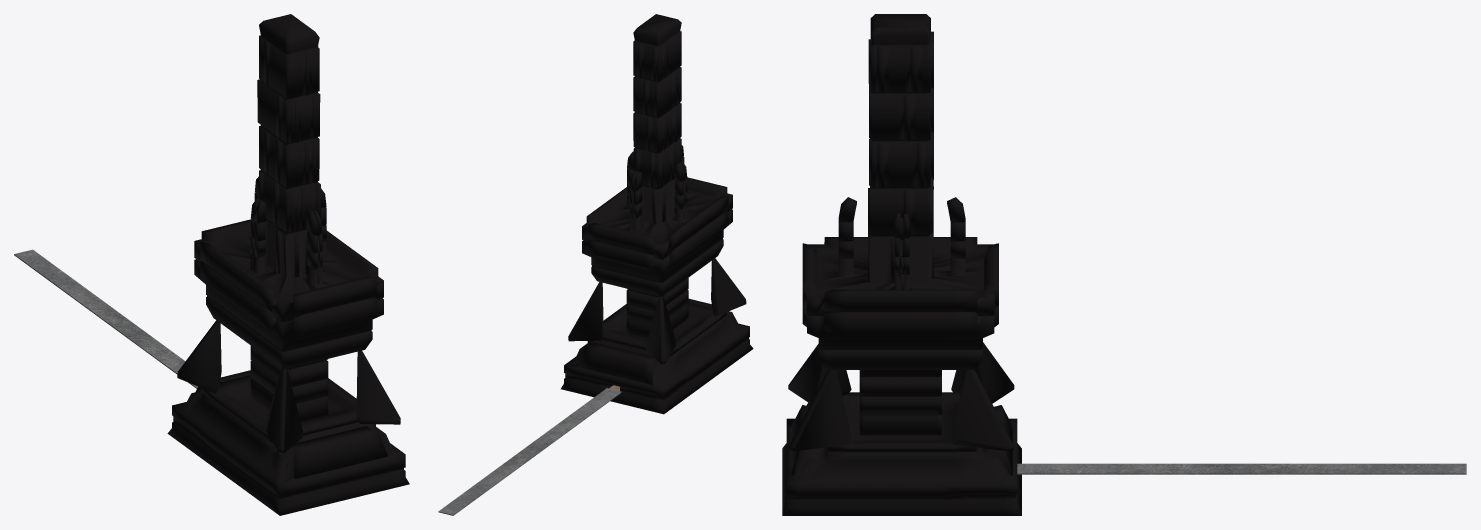
File: building.fbx
3 views of the same model, side by side, from view 1: azimuth 30°, elevation 25°; view 2: azimuth 150°, elevation 25°; view 3: azimuth 270°, elevation 25° (orthographic). The views are drawn at different scales.
Visible parts, largest first — view 1: Cube.039, Ground.047; view 2: Cube.039, Ground.047; view 3: Cube.039, Ground.047.
Part boxes in pixels (x1,y1,x2,y2): Cube.039: [167, 14, 409, 515]; Ground.047: [14, 249, 197, 388]; Cube.039: [561, 14, 753, 414]; Ground.047: [438, 388, 621, 515]; Cube.039: [782, 14, 1021, 515]; Ground.047: [1017, 463, 1466, 474].
Bounding box in the file's own units: 12898 × 41080 × 55274.
